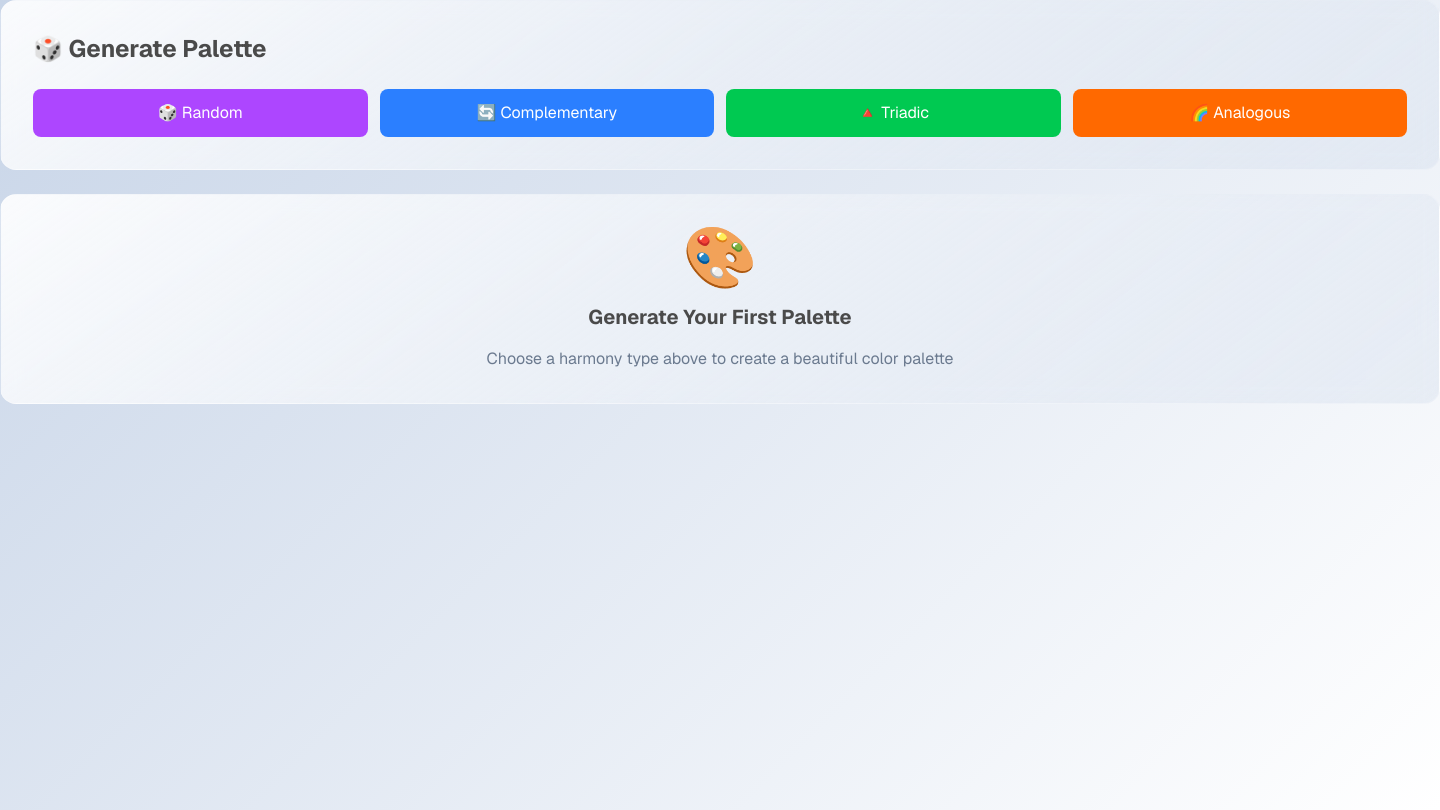
Test case: PaletteGenerator › shows error message when generation fails
Click the button "🎲 Random" at (200, 113), box [33,89,368,137]
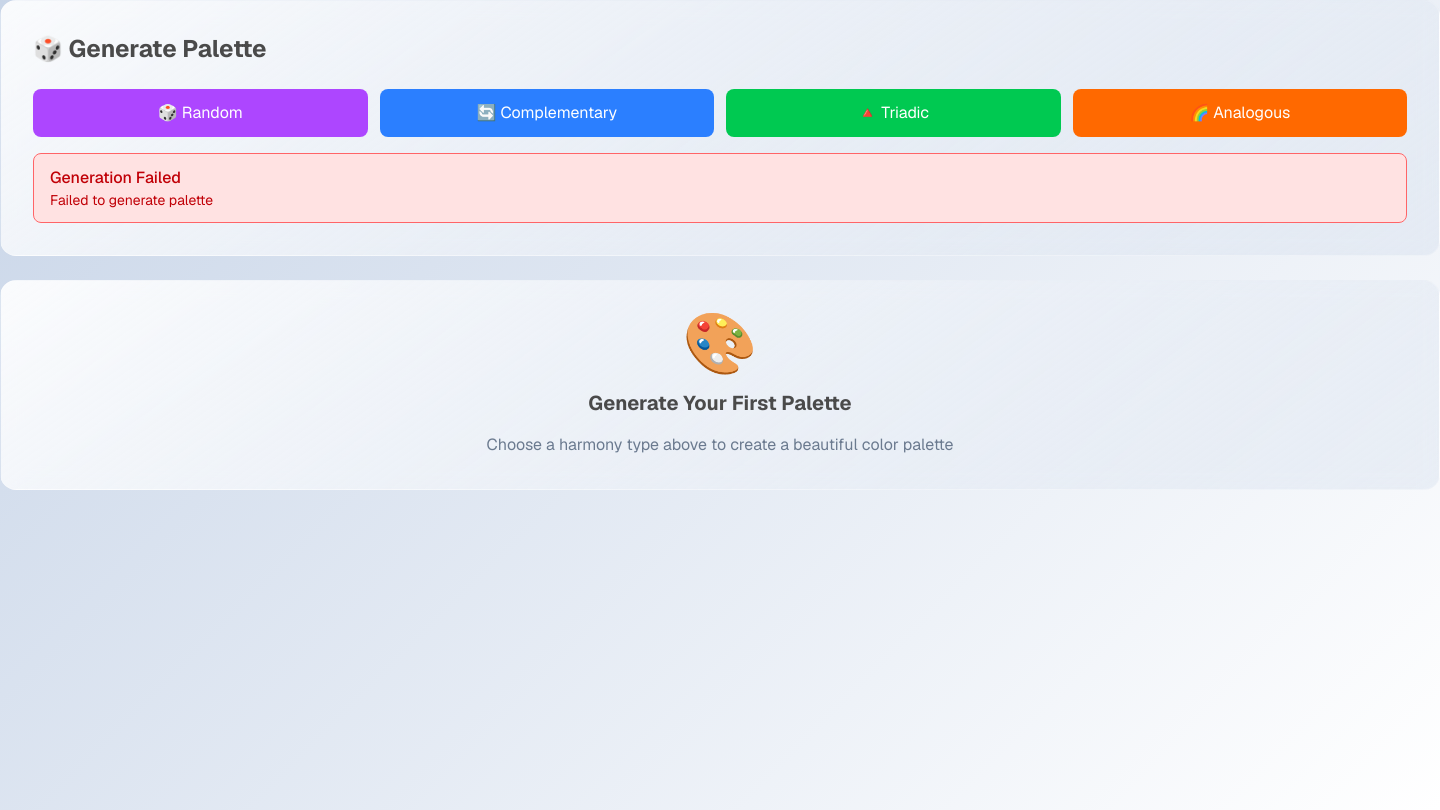
Expected: the text "Generation Failed" is shown, [50,167,181,188]
Expected: the text "Failed to generate palette" is shown, [50,191,213,209]
